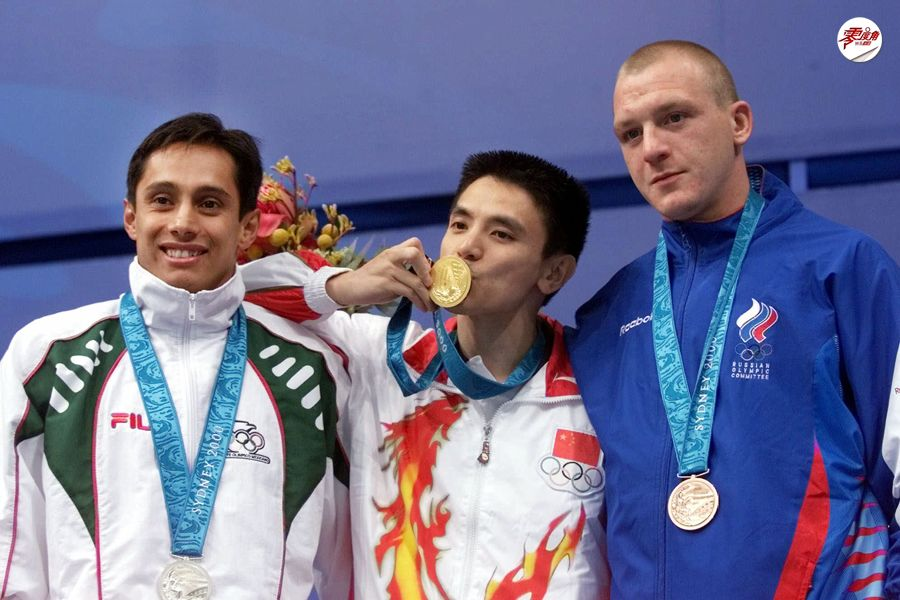face: (614, 65, 720, 216), (136, 149, 242, 286), (438, 181, 539, 315)
